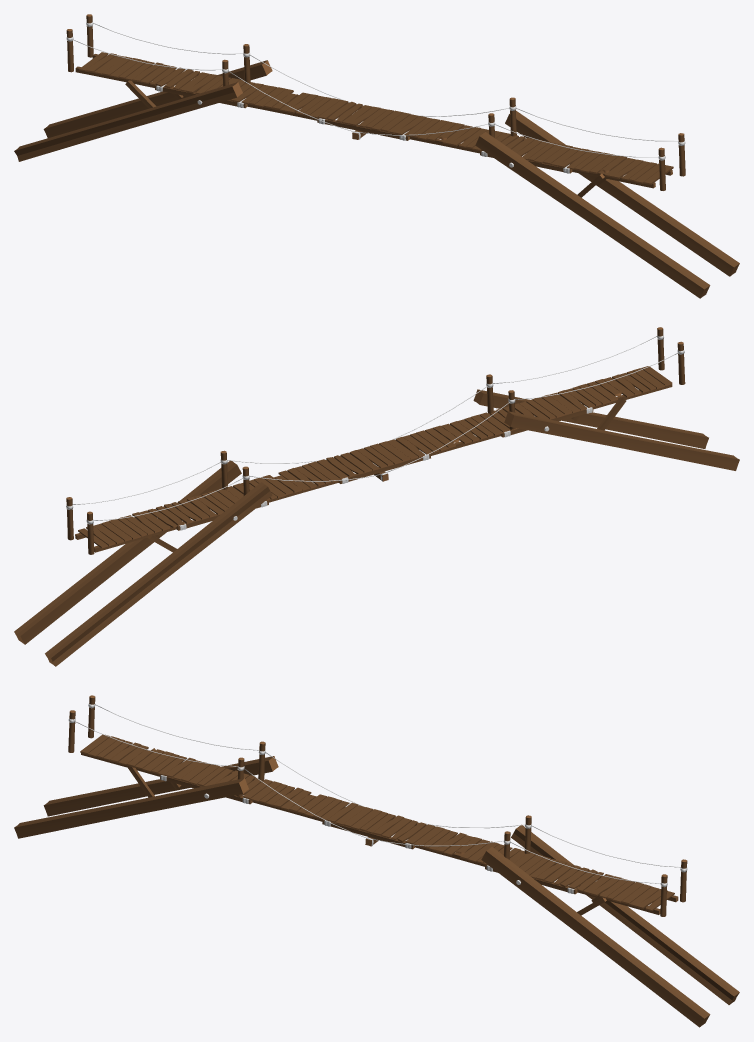
The model's file is Bridge.glb.
3 renders of one model, top to bottom at view 1: azimuth 90°, elevation 25°; view 2: azimuth 150°, elevation 25°; view 3: azimuth 270°, elevation 25°, orthographic.
Visible parts, largest first — view 1: Bridge; view 2: Bridge; view 3: Bridge.
Part boxes in pixels (bbox=[...]): Bridge: bbox=[14, 14, 739, 298]; Bridge: bbox=[14, 327, 739, 666]; Bridge: bbox=[14, 695, 739, 1027].
Bounding box in the file's own units: 33.97 × 13.2 × 54.41.
